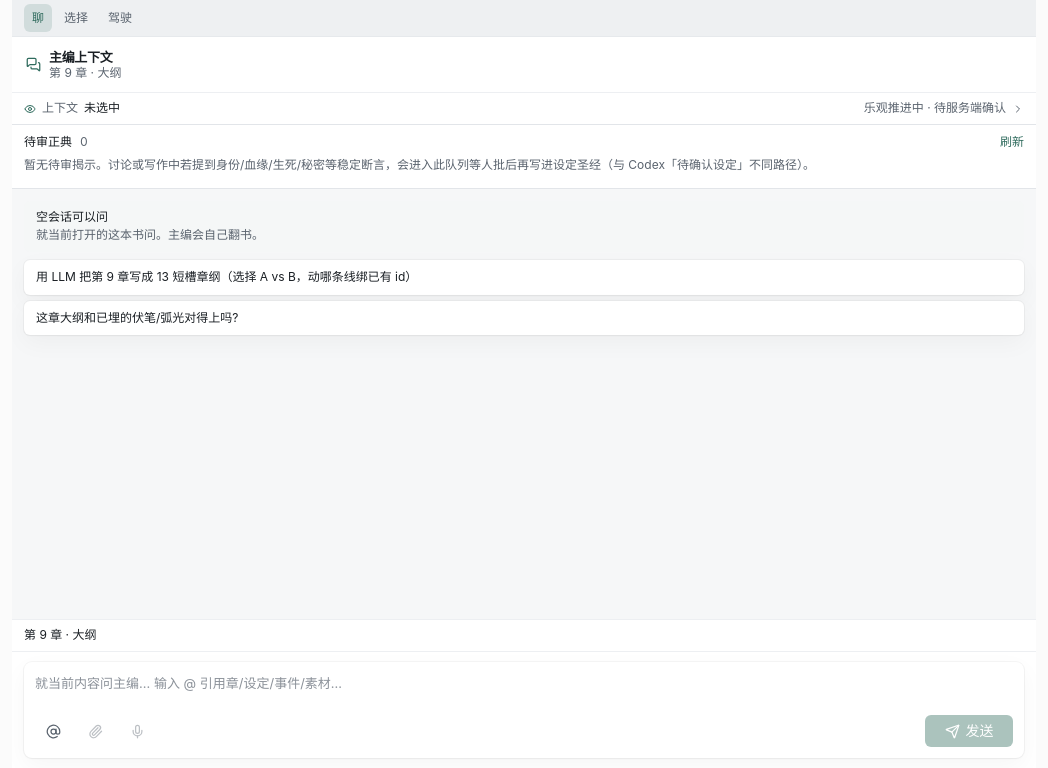
it: ChiefDock run 上下文过期审批 › 影响当前章(run_context_changed)→ 展示已过期/发起时/当前焦点并作废,不放行
This screenshot has width=1048, height=768.
Type "请新增角色:柳怀玉的师父" into the text box with placeholder "就当前内容问主编… 输入 @ 引用章/设定/事件/素材…" at (524, 689), box [35,671,1013,707]
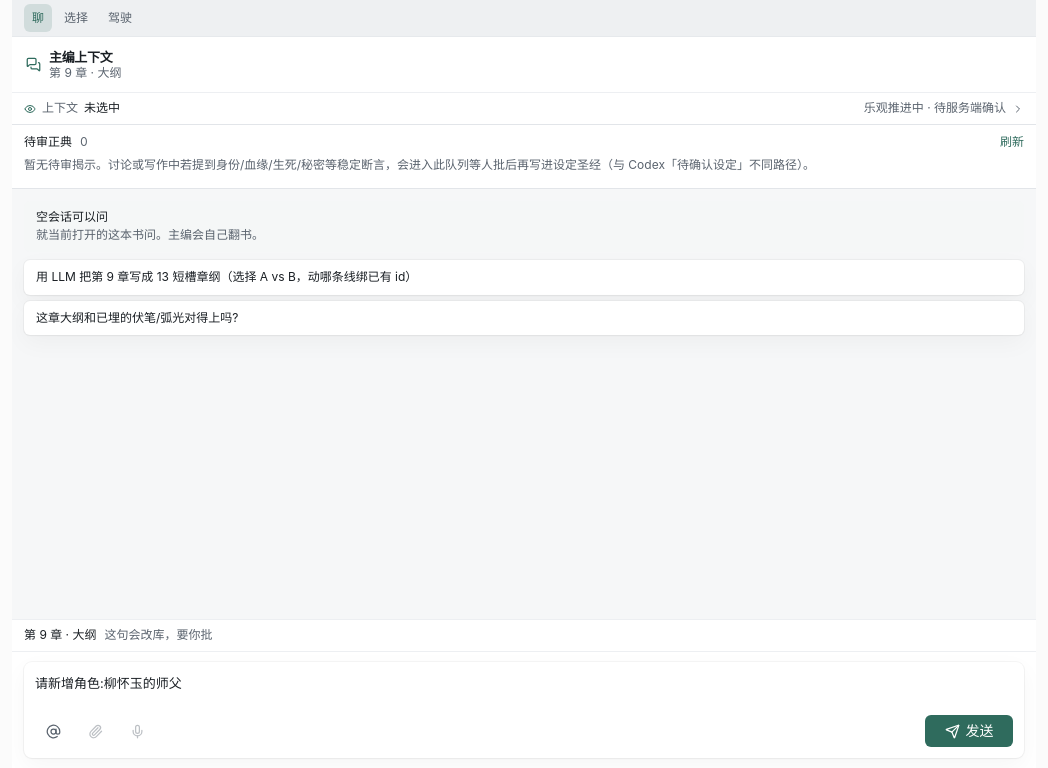
Click the button "发送" at (969, 731), box [925,715,1013,747]
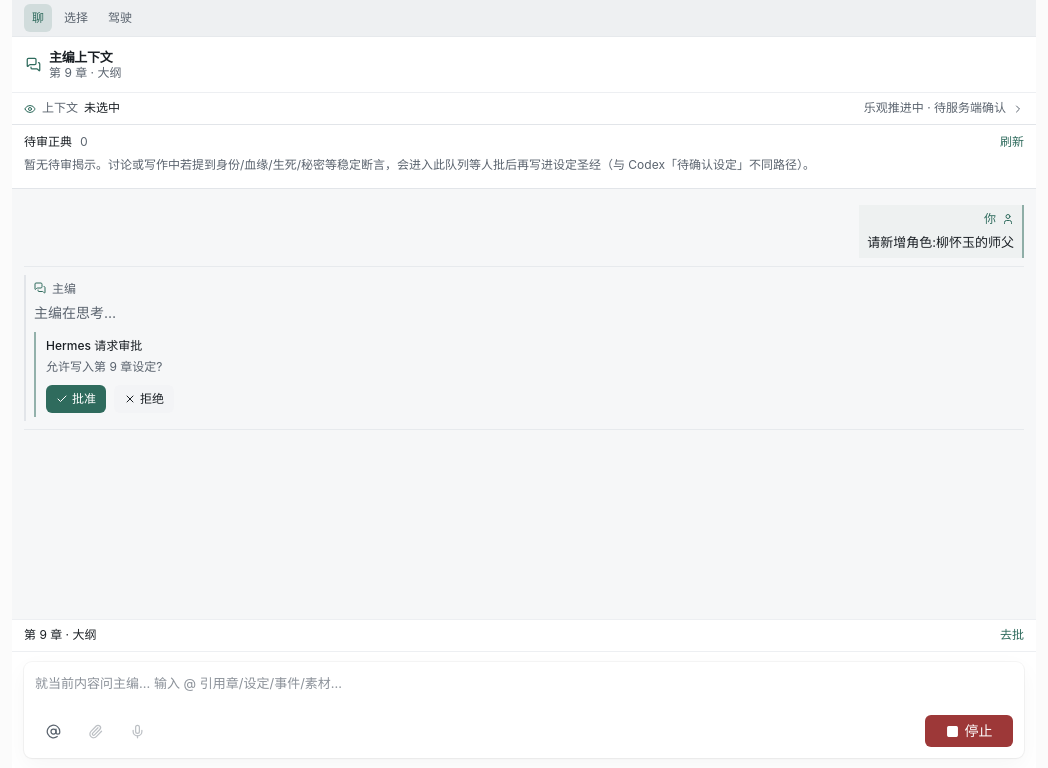
Result: the text "允许写入第 9 章设定?" is shown at [46,357,174,377]
Click the button "批准" at (76, 399), box [46,385,106,413]
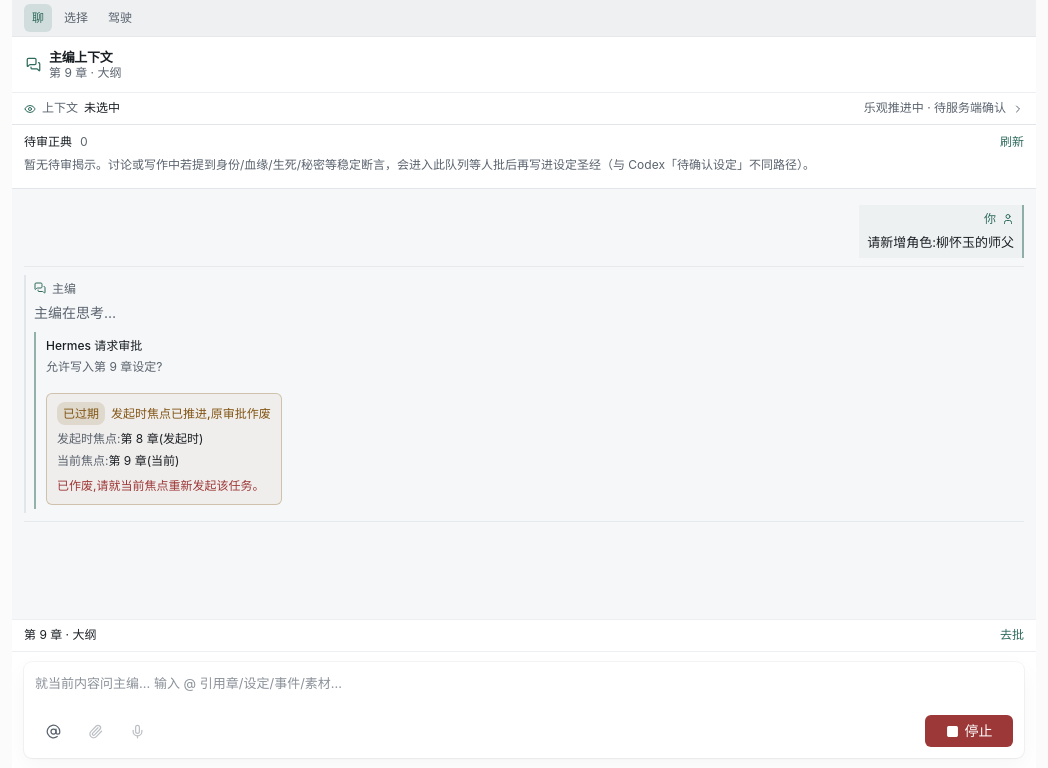
Result: the element with test id "run-context-stale" is shown at [46,393,282,505]
Result: the text with test id "run-context-expired" reads "已过期" at [63,406,99,421]
Result: the text with test id "run-origin-focus" reads "第 8 章(发起时)" at [120,431,203,446]
